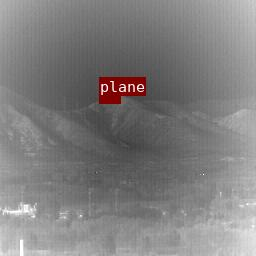plane: (99, 96, 120, 103)
